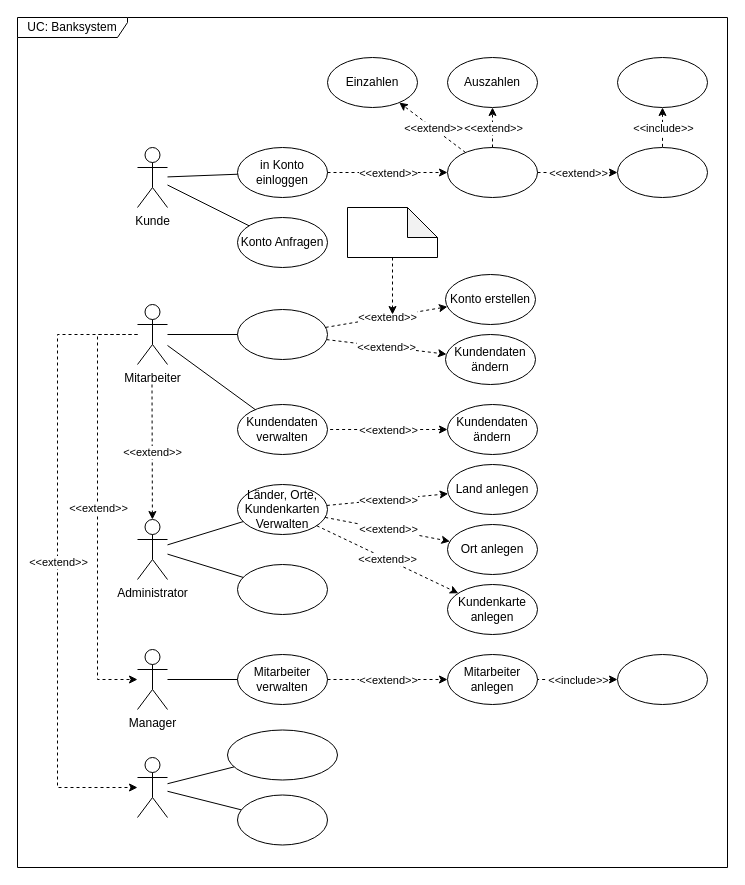
Image size: 745x885. Some labels were removed from this diagram. The shapes that lost their labels are listed below. From the top down, each one's box as (x1, y1, x2, y2) in pixels, then its label:
(616, 56, 708, 108): 2. KundenID
(446, 146, 538, 198): Transaktion Ausführen
(616, 146, 708, 198): Überweisen
(346, 206, 438, 258): Condition: Kunde hat Konto Angefragt
(236, 308, 328, 360): Kundenkonto verwalten
(236, 564, 328, 614): Manager verwalten
(616, 654, 708, 704): Mitarbeiter typ festlegen
(226, 729, 338, 780): Weiterentwicklung der Systeme
(136, 756, 168, 818): Entwickler
(236, 794, 328, 845): Support
